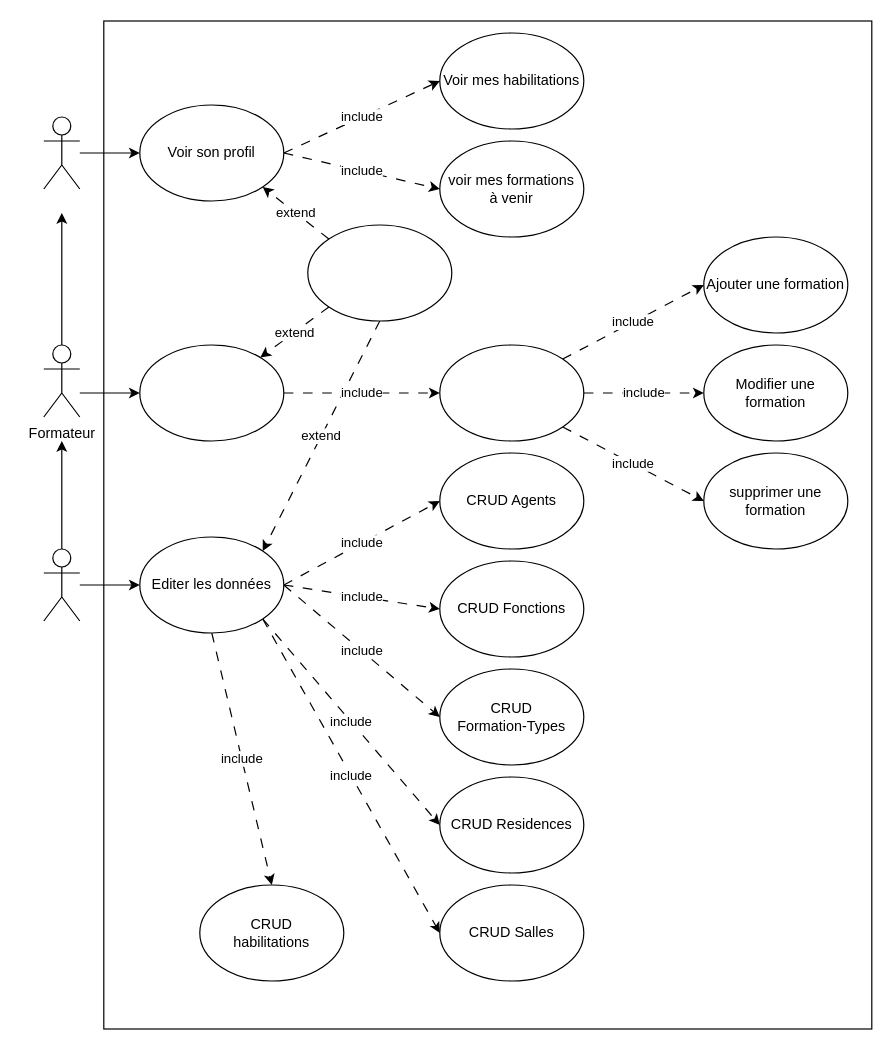
Some shapes in this 893 by 1050 pixel diagram are drawn without their labels. The shapes that lost their labels are listed below. From the top down, each one's centre as x and y in pixels, then its label:
the point at 61,152: Agent
the point at 379,272: Se connecter
the point at 211,392: Editer les formations
the point at 511,392: Voir les formations
the point at 61,584: Gestionnaire
